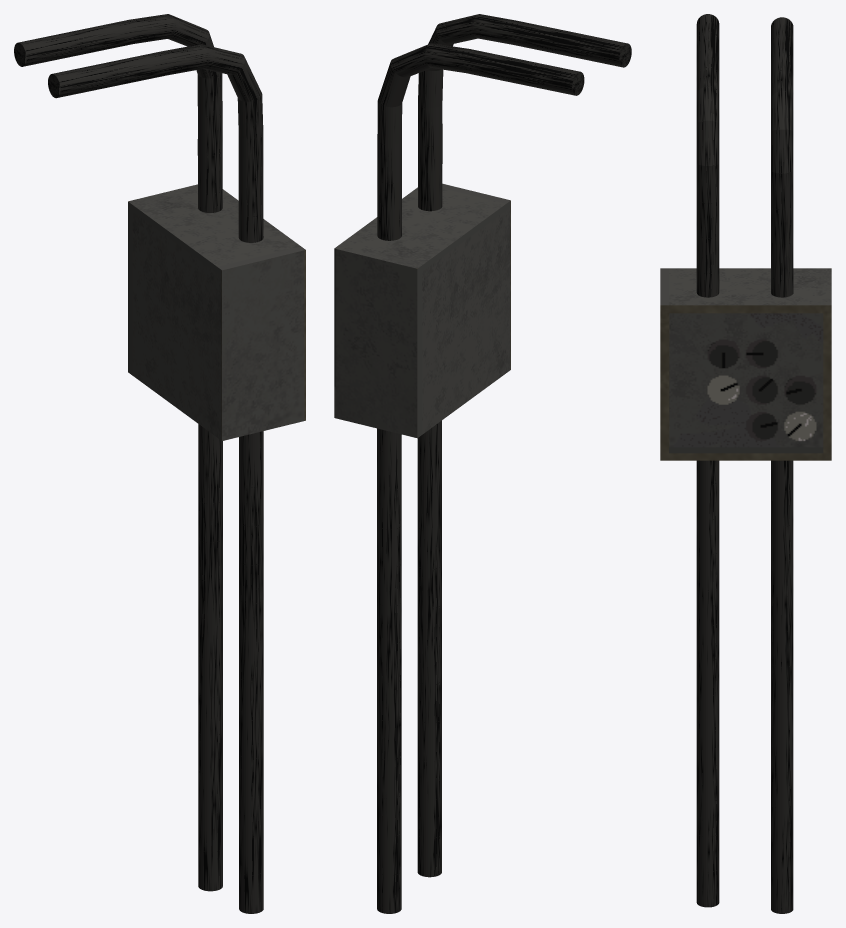
The model's file is ElectricBox.obj.
3 renders of one model, left to right at view 1: azimuth 30°, elevation 25°; view 2: azimuth 150°, elevation 25°; view 3: azimuth 270°, elevation 25°, orthographic. The views are drawn at different scales.
Parts seen in each view (by area): view 1: box, Cylinder, Cylinder.001; view 2: box, Cylinder.001, Cylinder; view 3: box, Cylinder, Cylinder.001.
Boxes of the visible parts, x1=… form: box: x1=128, y1=184, x2=305, y2=440; Cylinder: x1=48, y1=44, x2=263, y2=913; Cylinder.001: x1=14, y1=14, x2=222, y2=891; box: x1=334, y1=183, x2=510, y2=438; Cylinder.001: x1=377, y1=43, x2=584, y2=913; Cylinder: x1=417, y1=14, x2=631, y2=877; box: x1=660, y1=268, x2=831, y2=460; Cylinder: x1=696, y1=14, x2=719, y2=907; Cylinder.001: x1=771, y1=17, x2=793, y2=913.
Size of the model in its own units: 2.77 by 10.41 by 2.
3 materials, 3 textured.
